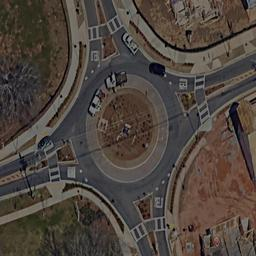Car: (86, 89, 107, 116), (120, 30, 138, 57), (105, 69, 128, 89), (36, 133, 51, 153), (147, 61, 166, 76)
Crosswalk: (106, 10, 123, 37), (129, 220, 146, 245), (199, 98, 212, 126), (46, 164, 62, 184), (85, 24, 101, 41), (153, 215, 168, 232), (194, 72, 206, 90)
White Dashed Line: (152, 170, 173, 193), (83, 62, 101, 81), (163, 71, 177, 94), (75, 160, 88, 184)
